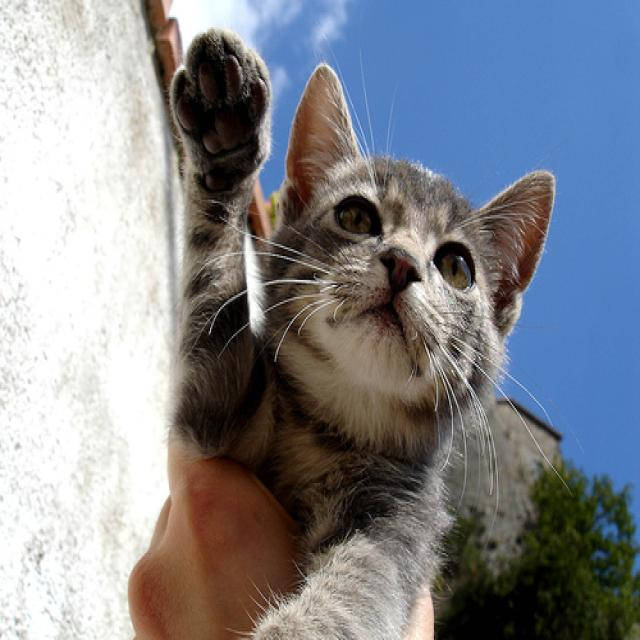left eye: (432, 237, 478, 292)
